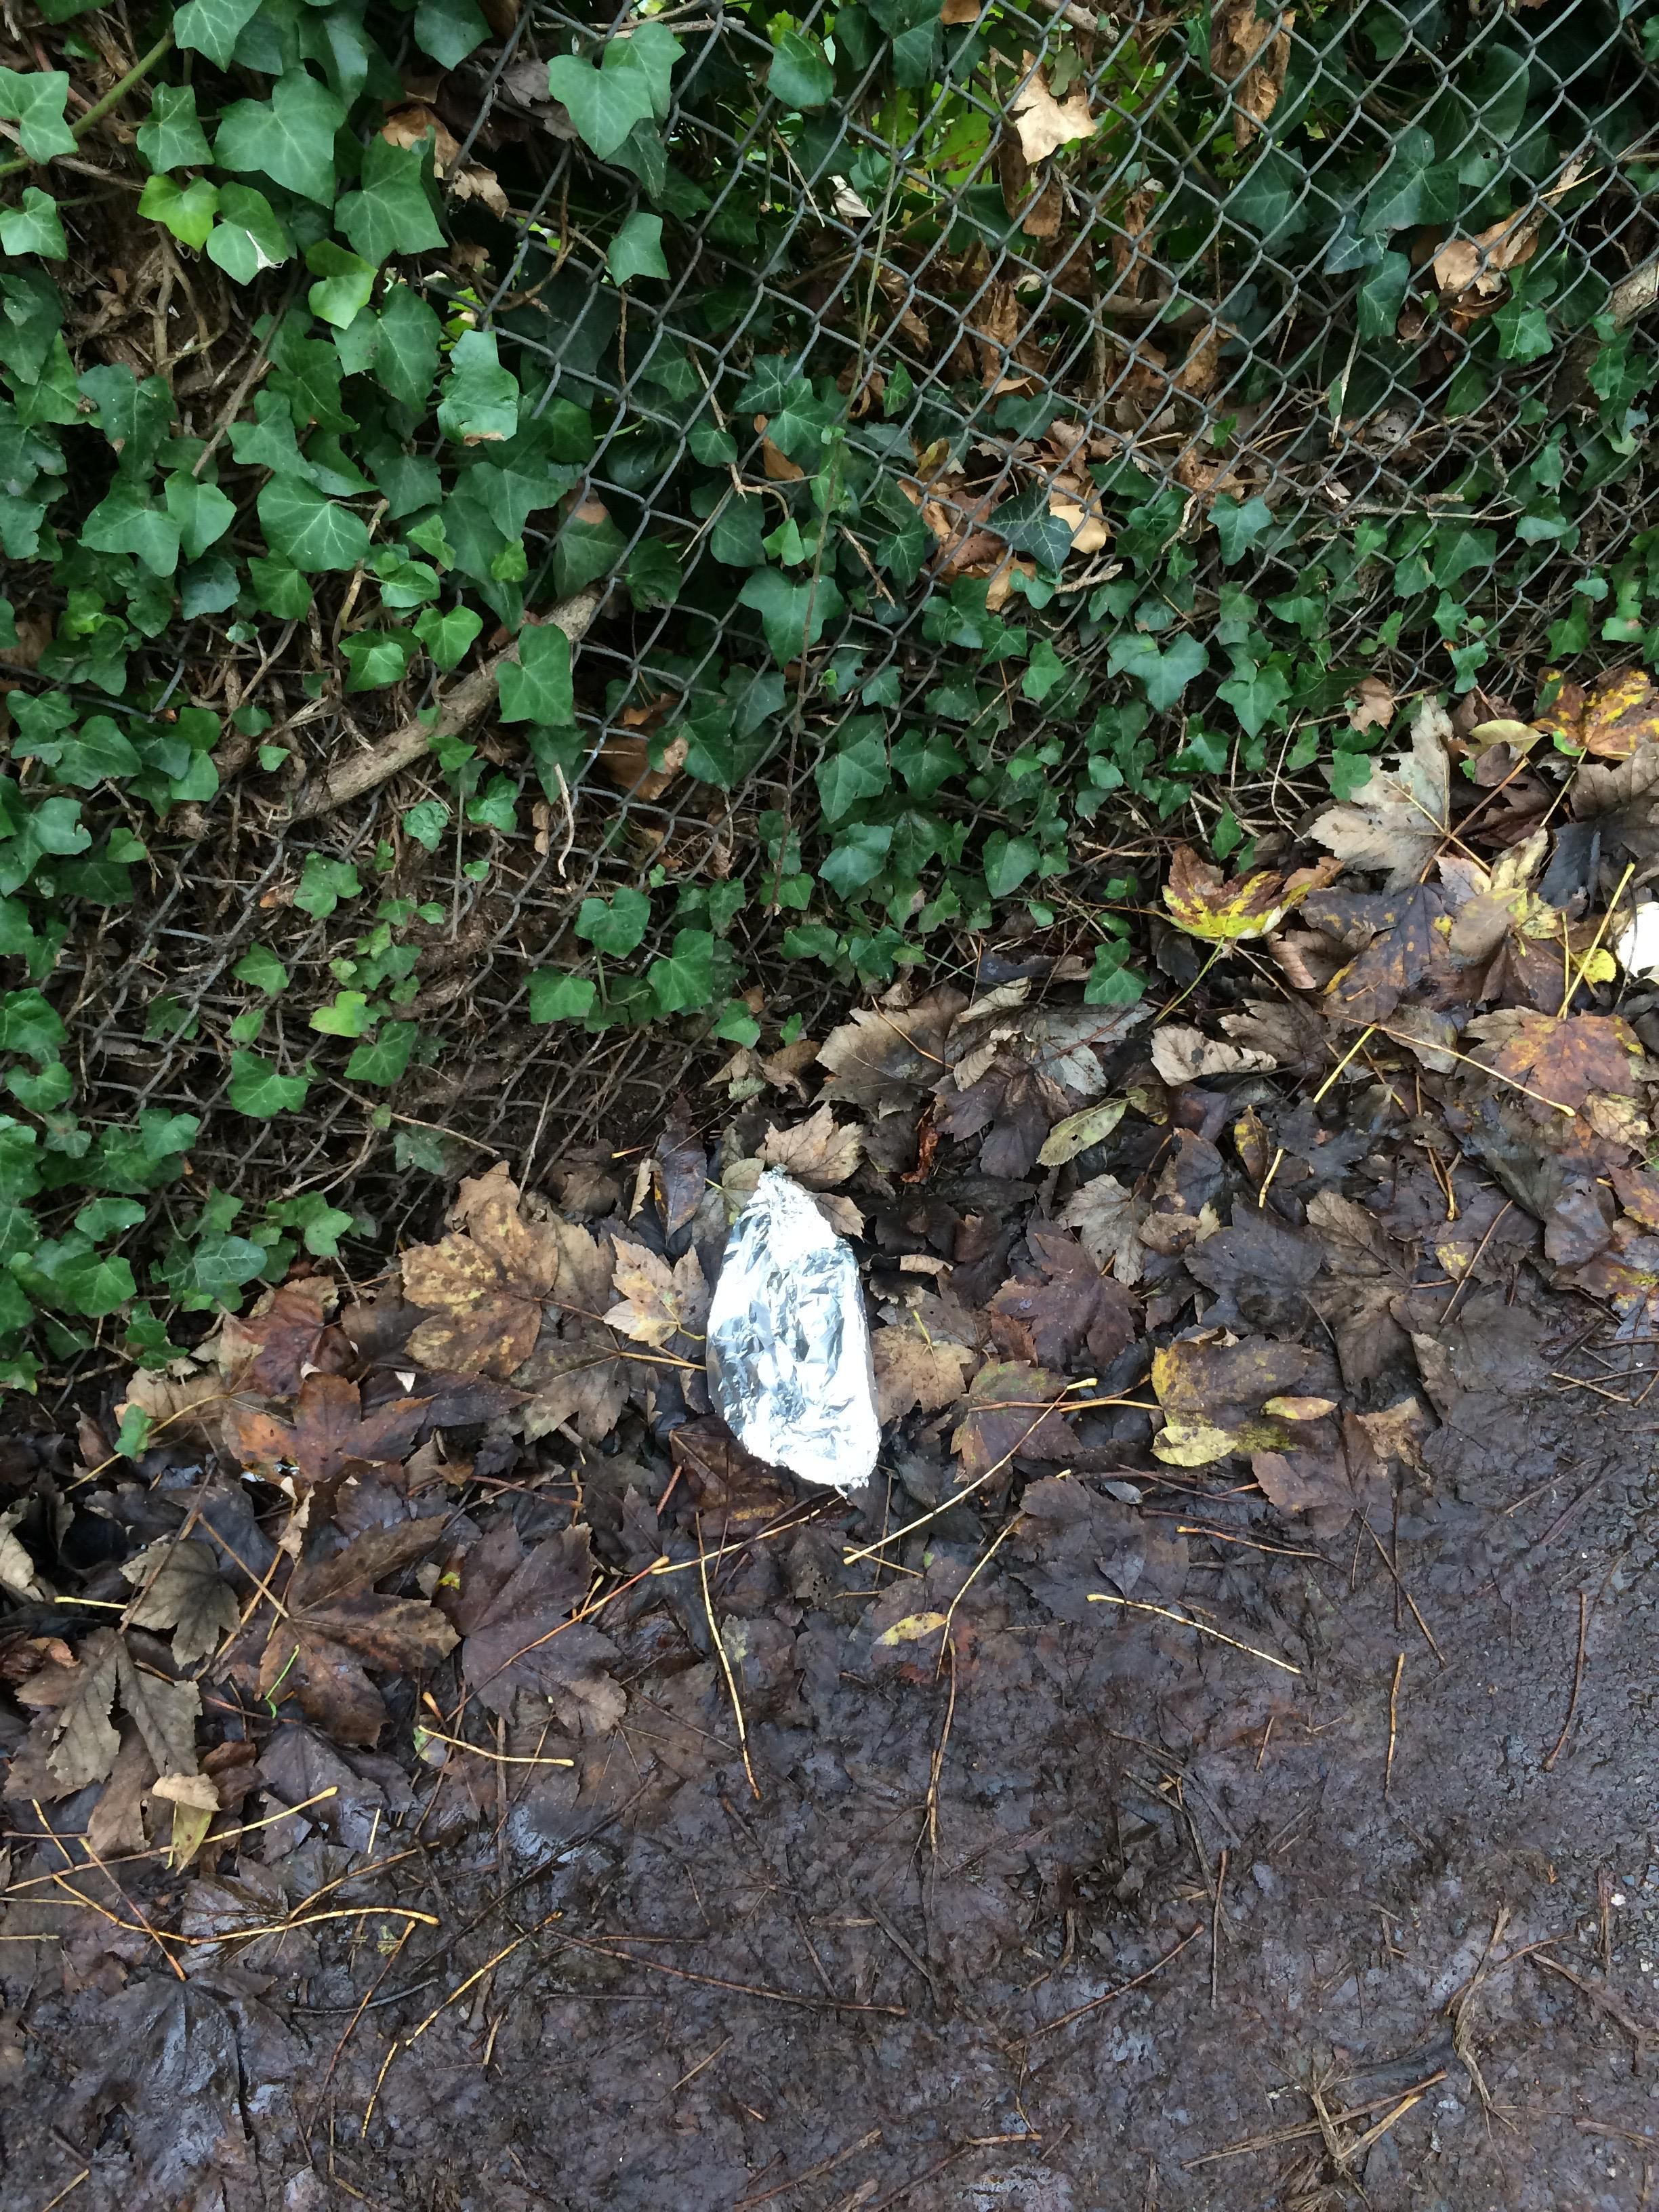Trash: (690, 1158, 882, 1501)
